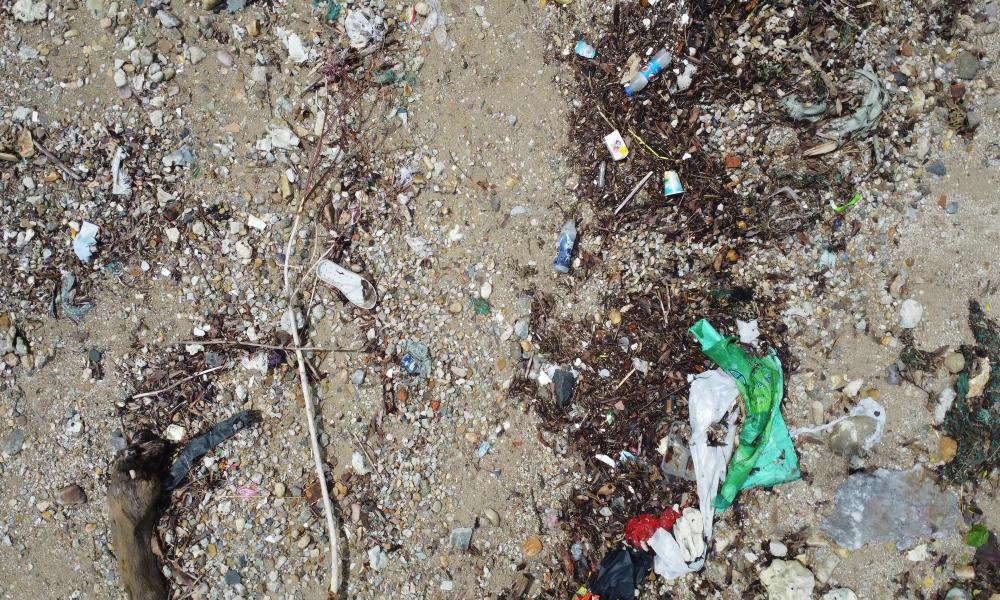carton: (604, 129, 630, 170), (573, 30, 596, 70), (660, 163, 685, 196)
plastic bag: (684, 312, 812, 498), (685, 370, 744, 542), (649, 516, 701, 571)
plastic bottle: (620, 48, 678, 99), (550, 216, 578, 278)
